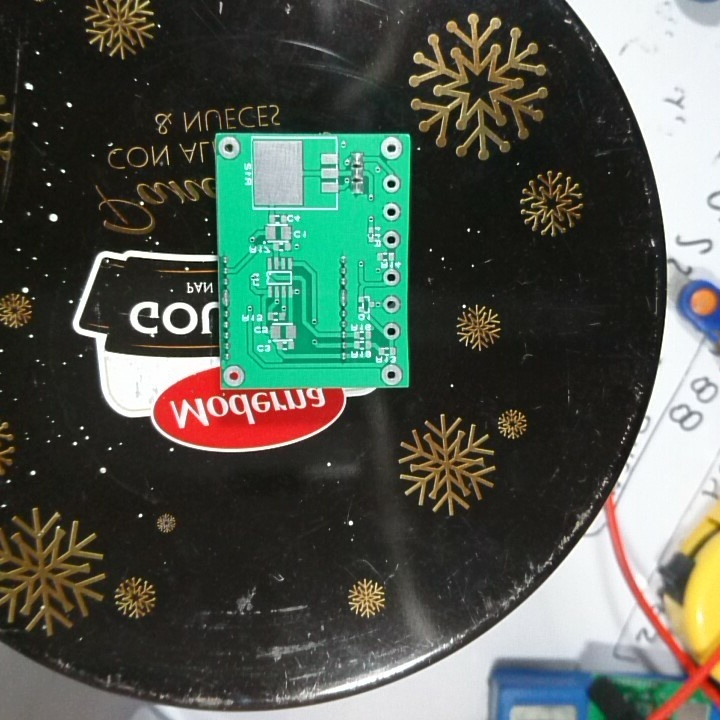F: (379, 136, 405, 163), (217, 134, 241, 161), (222, 362, 247, 387), (381, 228, 404, 251), (379, 362, 401, 386), (381, 200, 403, 223), (381, 172, 401, 197), (382, 267, 403, 290), (381, 295, 402, 316), (383, 320, 401, 343)
P: (219, 286, 234, 309), (337, 286, 350, 309)
